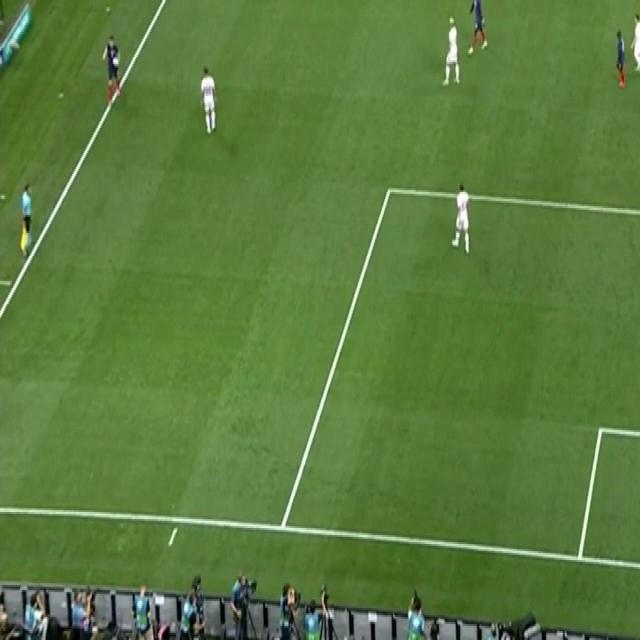ball: (112, 55, 120, 67)
player-white: (98, 36, 123, 114), (450, 180, 472, 256), (198, 62, 219, 136), (440, 15, 461, 87), (17, 180, 35, 262), (466, 0, 488, 57), (614, 26, 627, 92), (628, 9, 640, 73)
